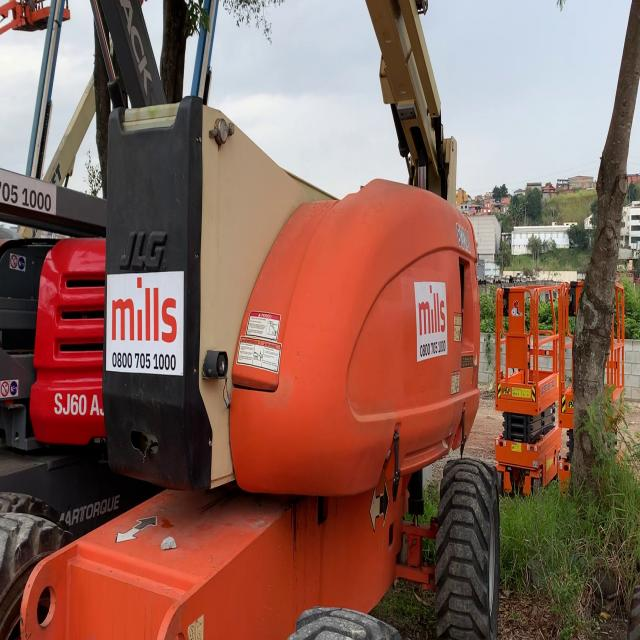Adesivos: (105, 267, 185, 379), (413, 280, 449, 365)
